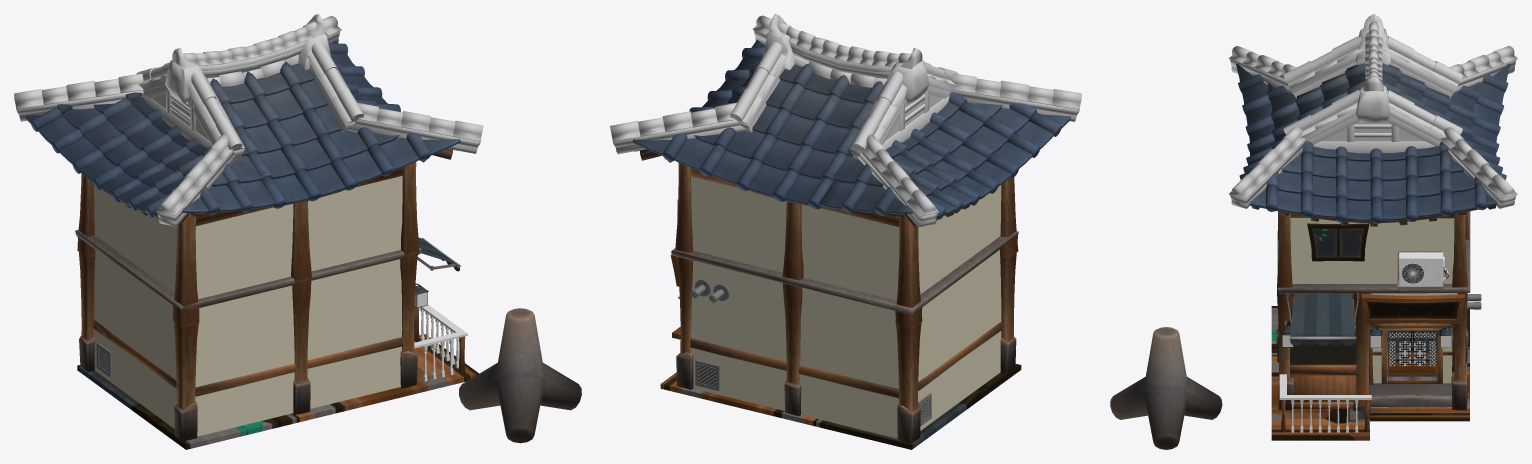
Rendered from house_240522.fbx.
3 renders of one model, left to right at view 1: azimuth 30°, elevation 25°; view 2: azimuth 150°, elevation 25°; view 3: azimuth 270°, elevation 25°, orthographic. The views are drawn at different scales.
Parts seen in each view (by area): view 1: Cube.004, Giwa_2_low, Cube.014, Giwa_1_low, Giwa_3_low, BP_Tetrapod_L, Giwa_4_low, BP_Simhouse_Floor_Woods_low, Cube_020, Giwa_6_low, BP_SimHouse5_8.013, BP_SimHouse5_8.007 (+19 smaller); view 2: Cube.004, Giwa_2_low, Cube.014, Giwa_1_low, Giwa_3_low, Giwa_4_low, Cube_020, Giwa_6_low, BP_Simhouse_Floor_Stone_low, BP_SimHouse5_8.012, Cube_024.002, BP_SimHouse5_8.006 (+18 smaller); view 3: Giwa_1_low, Giwa_2_low, Giwa_4_low, Giwa_3_low, Cube.014, BP_Tetrapod_L, BP_Simhouse_Floor_Woods_low, Tent_1_low, Signboard_low, Rooftop_1_low, BP_Simhouse_Winodw_low, Cube_015 (+22 smaller).
Boxes of the visible parts, <box> form: Cube.004: <box>94,249,402,436</box>; Giwa_2_low: <box>182,61,460,217</box>; Cube.014: <box>94,176,402,299</box>; Giwa_1_low: <box>25,40,456,225</box>; Giwa_3_low: <box>14,16,483,226</box>; BP_Tetrapod_L: <box>459,308,581,443</box>; Giwa_4_low: <box>136,38,363,159</box>; BP_Simhouse_Floor_Woods_low: <box>132,334,478,449</box>; Cube_020: <box>75,229,421,310</box>; Giwa_6_low: <box>183,21,316,76</box>; BP_SimHouse5_8.013: <box>172,213,199,327</box>; BP_SimHouse5_8.007: <box>172,305,199,410</box>; Cube.004: <box>691,250,1001,438</box>; Giwa_2_low: <box>632,64,912,217</box>; Cube.014: <box>691,176,1001,300</box>; Giwa_1_low: <box>634,40,1071,227</box>; Giwa_3_low: <box>610,15,1081,227</box>; Giwa_4_low: <box>730,37,958,159</box>; Cube_020: <box>671,231,1018,314</box>; Giwa_6_low: <box>777,21,910,77</box>; BP_Simhouse_Floor_Stone_low: <box>660,372,966,449</box>; BP_SimHouse5_8.012: <box>895,214,922,328</box>; Cube_024.002: <box>690,338,898,398</box>; BP_SimHouse5_8.006: <box>895,308,922,411</box>; Giwa_1_low: <box>1249,141,1496,226</box>; Giwa_2_low: <box>1236,63,1510,179</box>; Giwa_4_low: <box>1283,36,1462,146</box>; Giwa_3_low: <box>1228,46,1517,208</box>; Cube.014: <box>1290,218,1454,283</box>; BP_Tetrapod_L: <box>1110,327,1222,449</box>; BP_Simhouse_Floor_Woods_low: <box>1271,306,1369,440</box>; Tent_1_low: <box>1286,293,1359,345</box>; Signboard_low: <box>1361,294,1464,323</box>; Rooftop_1_low: <box>1313,121,1434,153</box>; BP_Simhouse_Winodw_low: <box>1307,223,1369,261</box>; Cube_015: <box>1369,383,1451,407</box>.
Size of the model in its own units: 1743 by 1549 by 1780.
